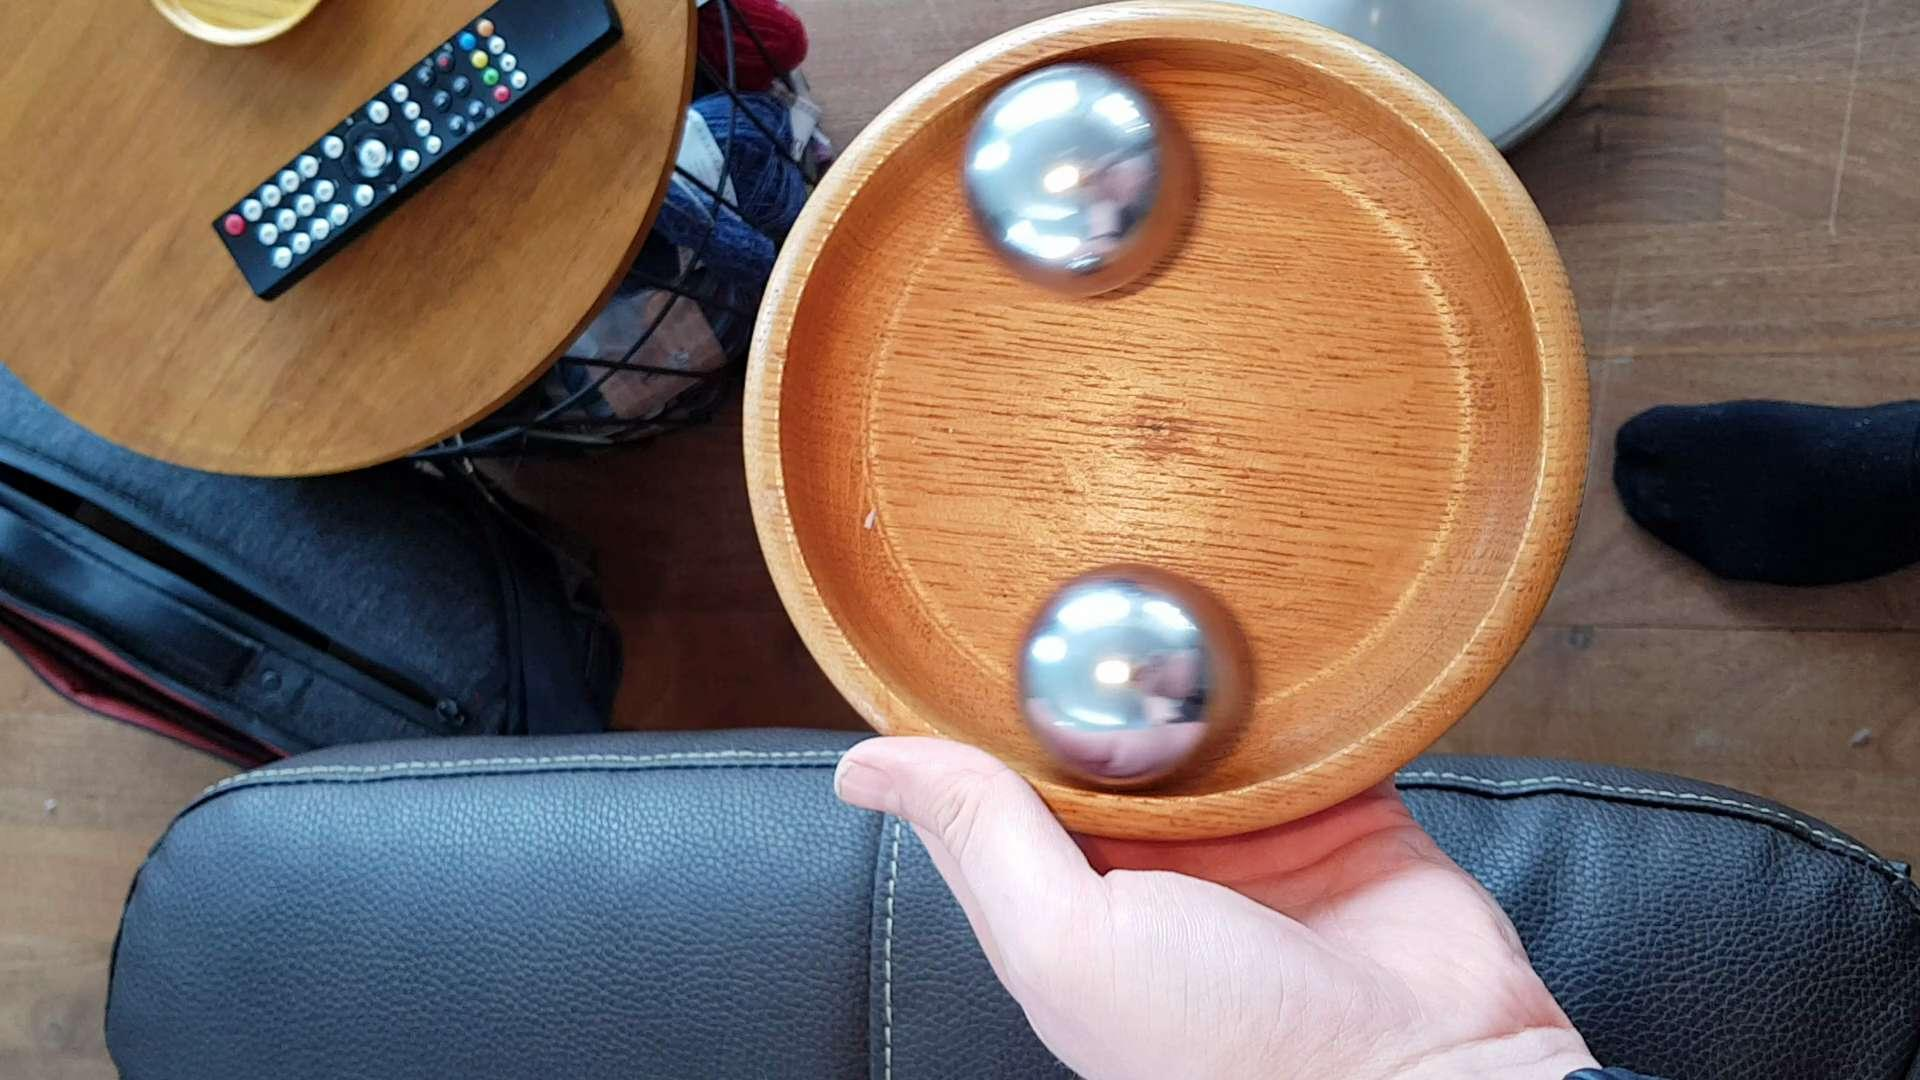sphere: (960, 50, 1195, 297), (1005, 564, 1261, 785)
